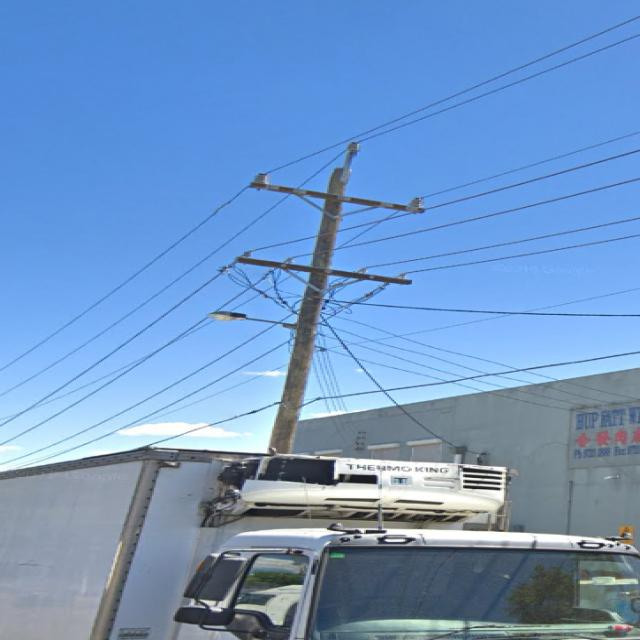HV-transmission: (246, 143, 425, 215)
crossarm: (232, 254, 410, 286), (249, 182, 426, 214)
streetlight: (205, 309, 292, 327)
timber-pole: (262, 170, 348, 452)
